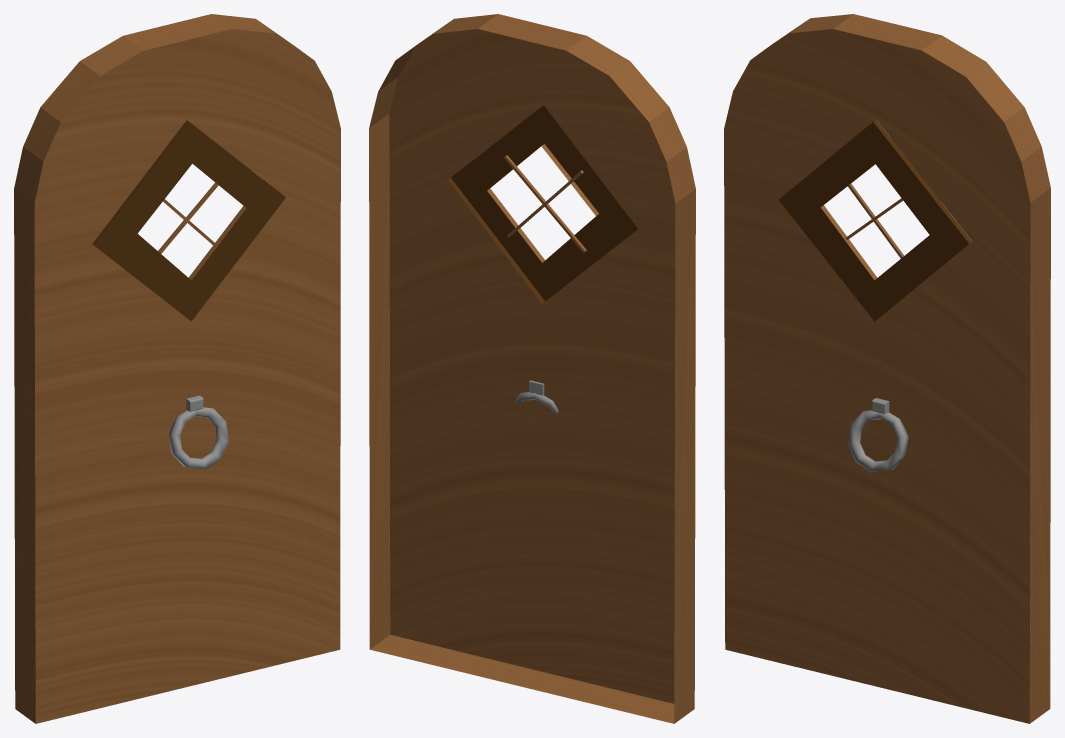
Rendered from WoodenDoor.fbx.
The picture shows the model from 3 angles, left to right: view 1: azimuth 30°, elevation 25°; view 2: azimuth 150°, elevation 25°; view 3: azimuth 330°, elevation 25°; orthographic projection.
Parts seen in each view (by area): view 1: WoodenDoor; view 2: WoodenDoor; view 3: WoodenDoor.
Part boxes in pixels (left/top/right/bottom): WoodenDoor: left=14, top=14, right=340, bottom=723; WoodenDoor: left=369, top=14, right=695, bottom=723; WoodenDoor: left=724, top=14, right=1050, bottom=723.
Bounding box in the file's own units: 171 × 345 × 31.47.
